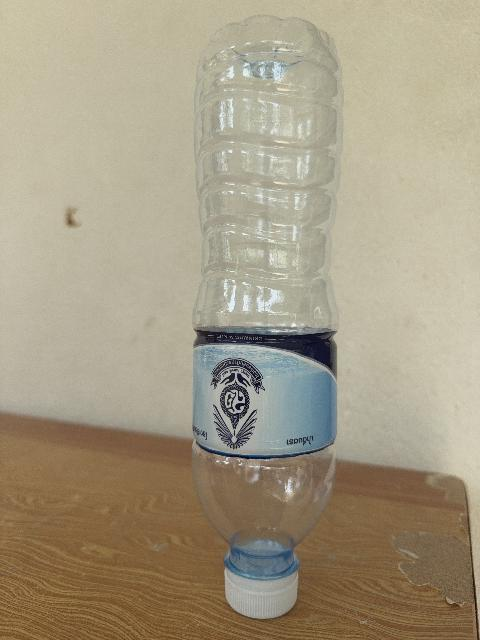bottle: (193, 16, 342, 618)
